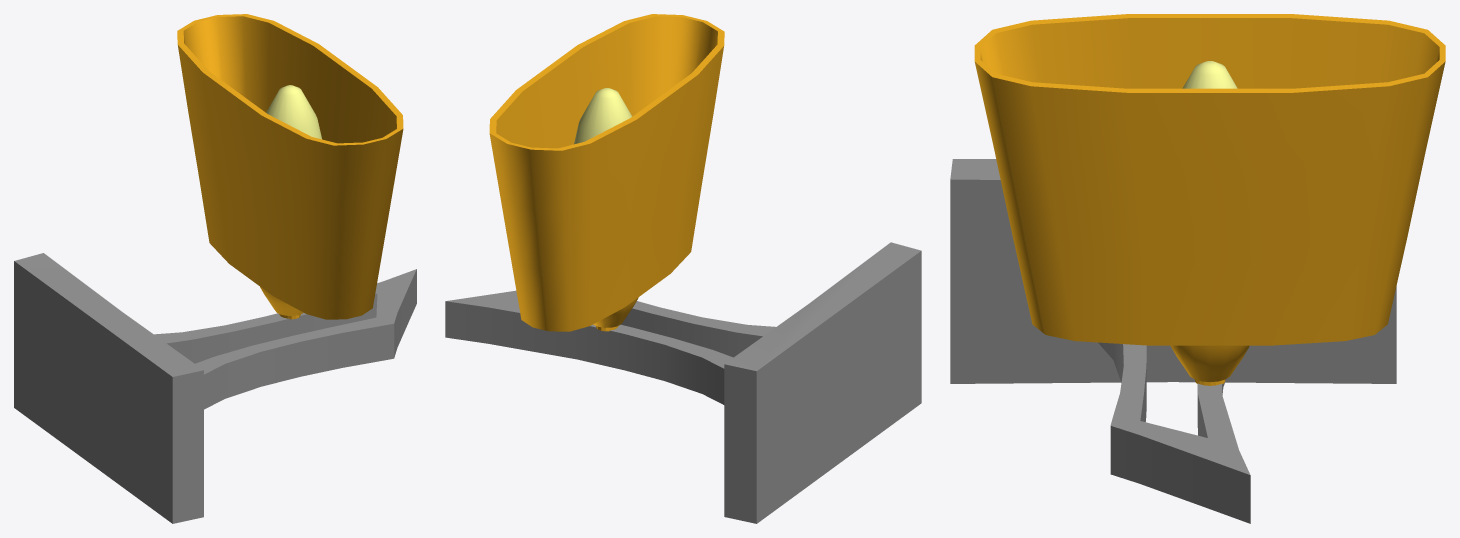
Rendered from wall_lamp.FBX.
The picture shows the model from 3 angles, left to right: view 1: azimuth 30°, elevation 25°; view 2: azimuth 150°, elevation 25°; view 3: azimuth 270°, elevation 25°; orthographic projection. The views are drawn at different scales.
Visible parts, largest first — view 1: plafond, lamp_base, bulb; view 2: plafond, lamp_base, bulb; view 3: plafond, lamp_base, bulb.
Part boxes in pixels (x1=…): plafond: x1=177, y1=14, x2=403, y2=319; lamp_base: x1=14, y1=253, x2=416, y2=523; bulb: x1=266, y1=85, x2=322, y2=139; plafond: x1=489, y1=14, x2=724, y2=331; lamp_base: x1=445, y1=242, x2=921, y2=523; bulb: x1=574, y1=88, x2=632, y2=144; plafond: x1=974, y1=14, x2=1445, y2=385; lamp_base: x1=950, y1=159, x2=1396, y2=523; bulb: x1=1182, y1=61, x2=1237, y2=88.
Size of the model in its own units: 23.1 by 20.44 by 20.28.
